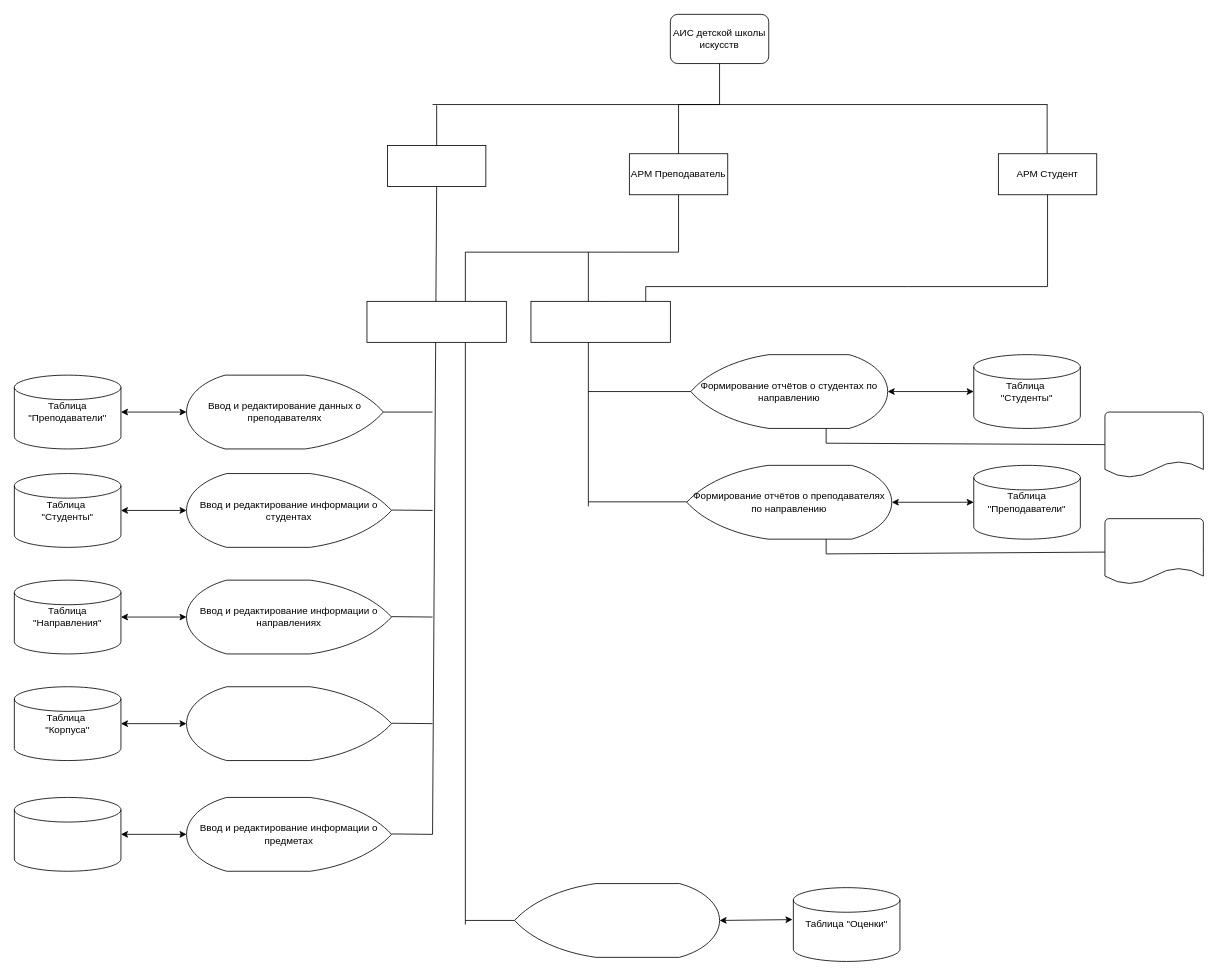
This 1219x976 diagram has some shape labels left out. The centre of each missing label's shape, as x and y in pixels:
АРМ Администратор: (436,166)
Ввод и редактирование данных: (436,321)
Ввод и редактирование информации о корпусах: (289,723)
Ввод и редактирование информации об оценках: (617,920)
Отчёт о преподавателях по направлению: (1153,551)
Отчёт о студентах по направлению: (1153,444)
Таблица "Предметы": (67,834)
Формирование отчётов: (600,321)
